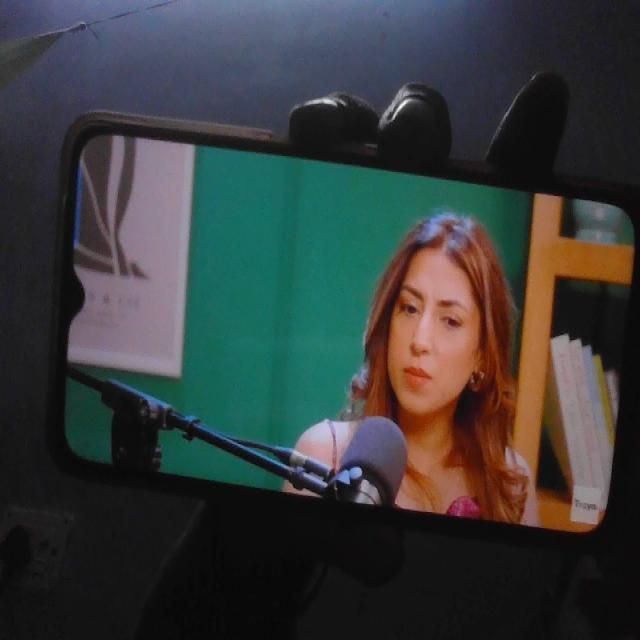fake: (380, 212, 492, 424)
